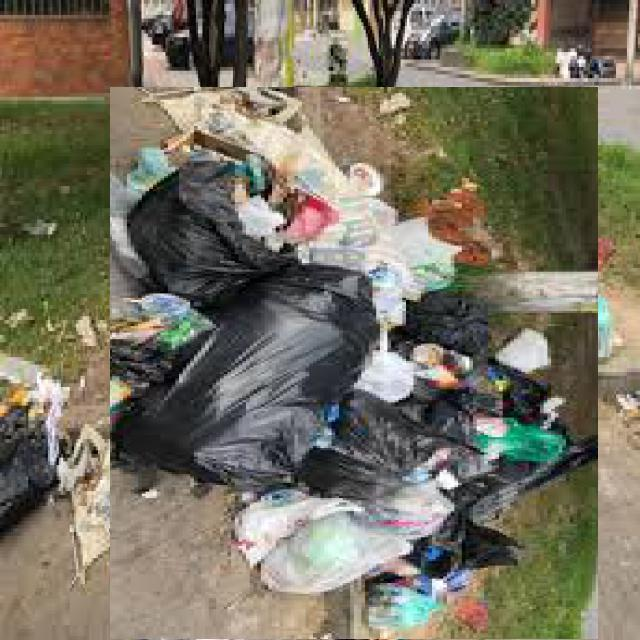Trashbag: (115, 298, 336, 502), (130, 150, 282, 300), (322, 393, 481, 517), (403, 278, 539, 388)
